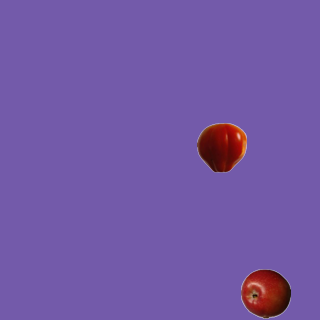Apple Braeburn: (240, 268, 290, 318)
Tomato 1: (196, 122, 246, 172)
